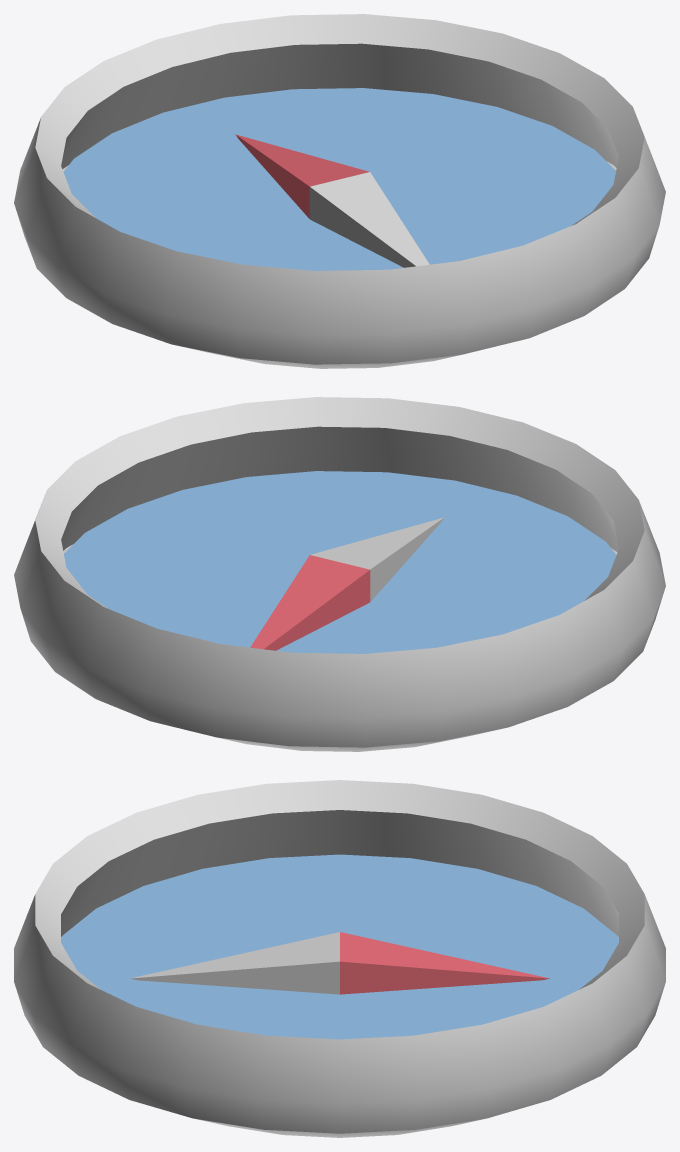
File: Compass.fbx
3 views of the same model, one above another, from view 1: azimuth 30°, elevation 25°; view 2: azimuth 150°, elevation 25°; view 3: azimuth 270°, elevation 25° (orthographic).
Visible parts, largest first — view 1: Compass, Face, Indicator; view 2: Compass, Face, Indicator; view 3: Compass, Face, Indicator.
Part boxes in pixels (left/top/right/bottom): Compass: left=14, top=14, right=665, bottom=368; Face: left=63, top=88, right=615, bottom=270; Indicator: left=235, top=134, right=429, bottom=267; Compass: left=14, top=397, right=665, bottom=751; Face: left=64, top=471, right=616, bottom=653; Indicator: left=250, top=517, right=444, bottom=650; Compass: left=14, top=780, right=665, bottom=1137; Face: left=61, top=854, right=618, bottom=1039; Indicator: left=130, top=932, right=549, bottom=994.
Bounding box in the file's own units: 18.72 × 3.99 × 18.59.
